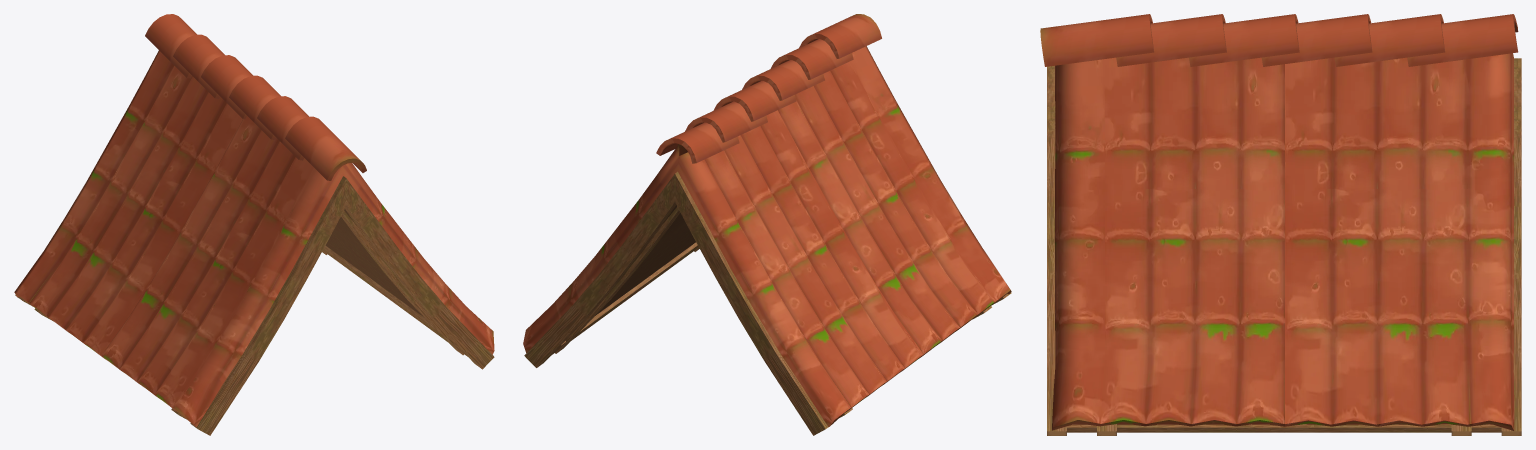
File: Roof_RoundTiles_4x4.glb
3 views of the same model, side by side, from view 1: azimuth 30°, elevation 25°; view 2: azimuth 150°, elevation 25°; view 3: azimuth 270°, elevation 25° (orthographic). The views are drawn at different scales.
Visible parts, largest first — view 1: Roof_RoundTiles_4x4; view 2: Roof_RoundTiles_4x4; view 3: Roof_RoundTiles_4x4.
Part boxes in pixels (bbox=[...]): Roof_RoundTiles_4x4: bbox=[14, 14, 494, 435]; Roof_RoundTiles_4x4: bbox=[523, 14, 1011, 435]; Roof_RoundTiles_4x4: bbox=[1040, 14, 1521, 435].
Size of the model in its own units: 5.51 by 4.25 by 5.56.
2 materials, 2 textured.
